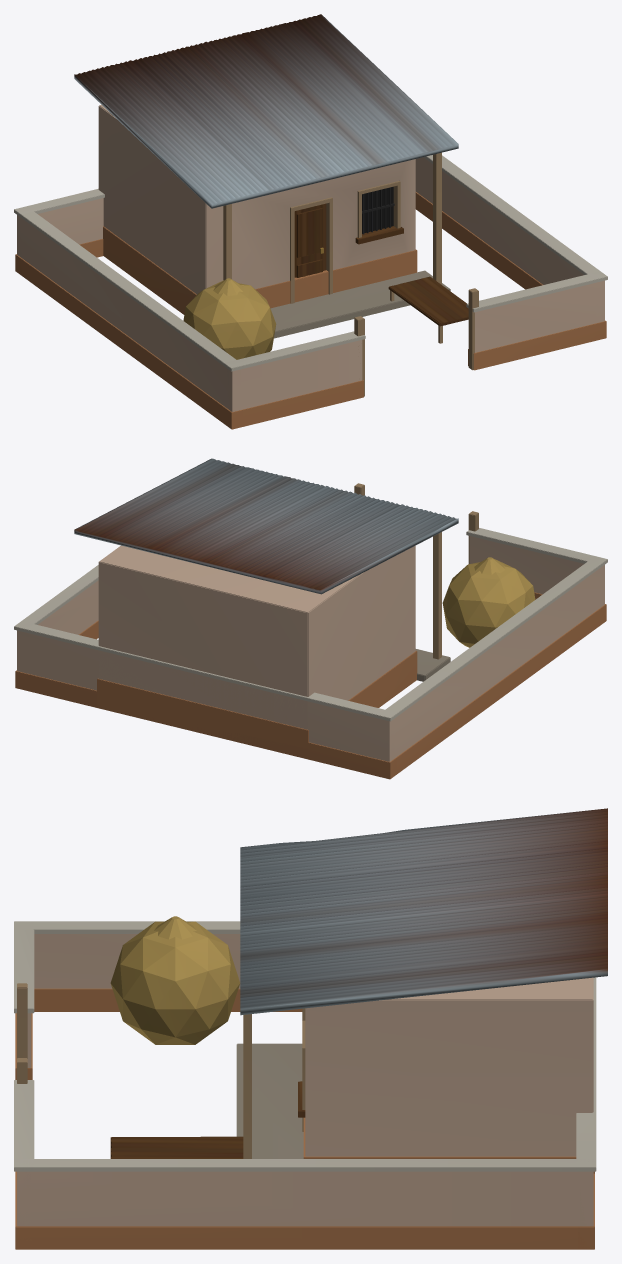
Rendered from bg_house_c.glb.
3 views of the same model, one above another, from view 1: azimuth 30°, elevation 25°; view 2: azimuth 150°, elevation 25°; view 3: azimuth 270°, elevation 25° (orthographic). The views are drawn at different scales.
Visible parts, largest first — view 1: hb_main, hb_tin; view 2: hb_main, hb_tin; view 3: hb_main, hb_tin.
Boxes of the visible parts, bbox=[...] form: hb_main: bbox=[14, 105, 607, 429]; hb_tin: bbox=[74, 14, 458, 208]; hb_main: bbox=[14, 483, 607, 779]; hb_tin: bbox=[74, 458, 458, 594]; hb_main: bbox=[14, 916, 596, 1249]; hb_tin: bbox=[240, 808, 607, 1015].
Bounding box in the file's own units: 8.08 × 3.66 × 8.24.
